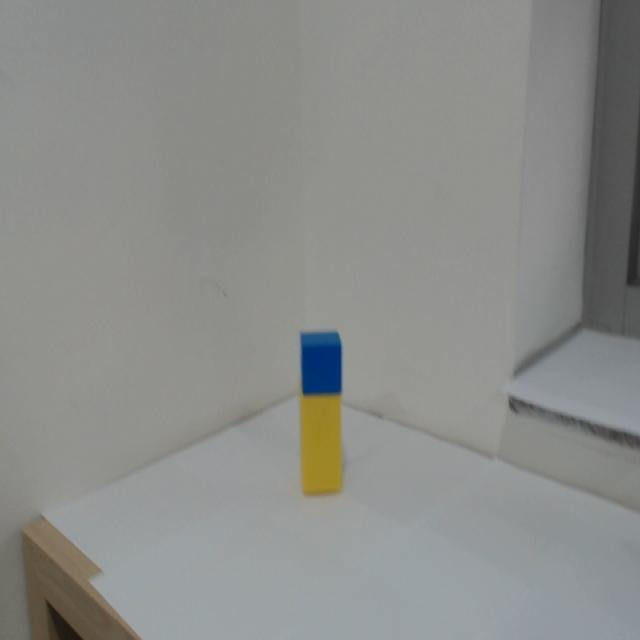cube: (299, 330, 342, 395)
